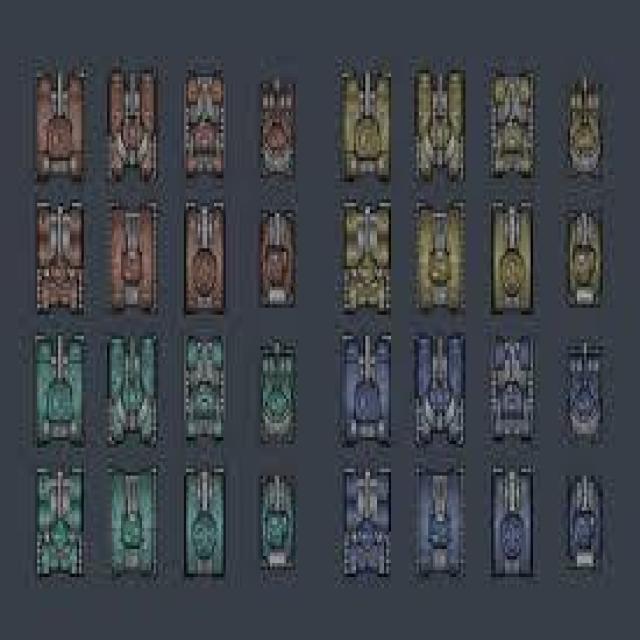Tanks: (412, 61, 475, 194), (337, 56, 398, 189), (29, 58, 87, 194), (107, 61, 161, 191), (29, 334, 87, 453), (341, 330, 394, 453), (341, 196, 394, 318), (414, 332, 468, 451), (414, 196, 466, 318), (32, 203, 88, 315), (180, 63, 232, 182), (33, 463, 86, 579), (110, 463, 160, 582), (180, 198, 227, 324), (489, 465, 540, 581), (488, 61, 536, 184), (417, 462, 468, 577), (343, 467, 397, 575), (489, 194, 535, 320), (110, 332, 158, 448), (490, 339, 541, 448), (180, 462, 227, 580), (111, 203, 157, 318), (563, 467, 610, 575), (185, 332, 229, 441), (256, 201, 298, 313), (560, 341, 608, 439), (255, 465, 297, 577), (561, 205, 607, 306), (568, 66, 605, 189), (258, 339, 298, 448), (257, 77, 299, 178)
